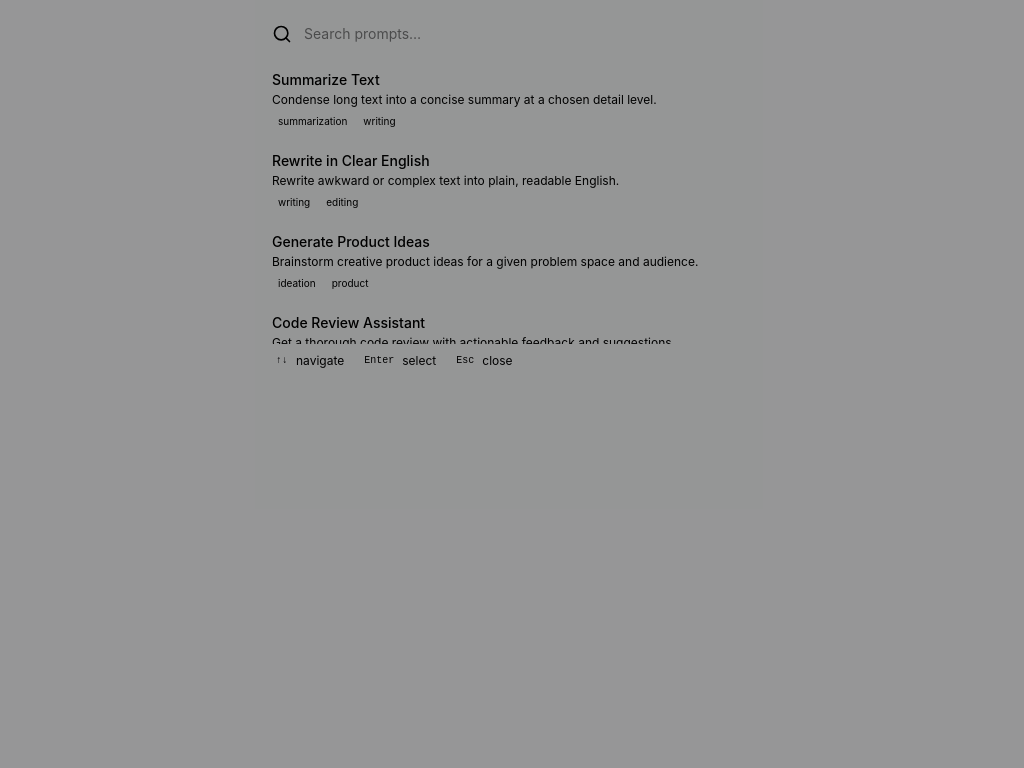
CommandPalette › shows "No prompts found" when no results match
The width and height of the screenshot is (1024, 768).
In the field labelled "Search prompts": (528, 34) [304,24,752,44], type "zzzznonexistent"
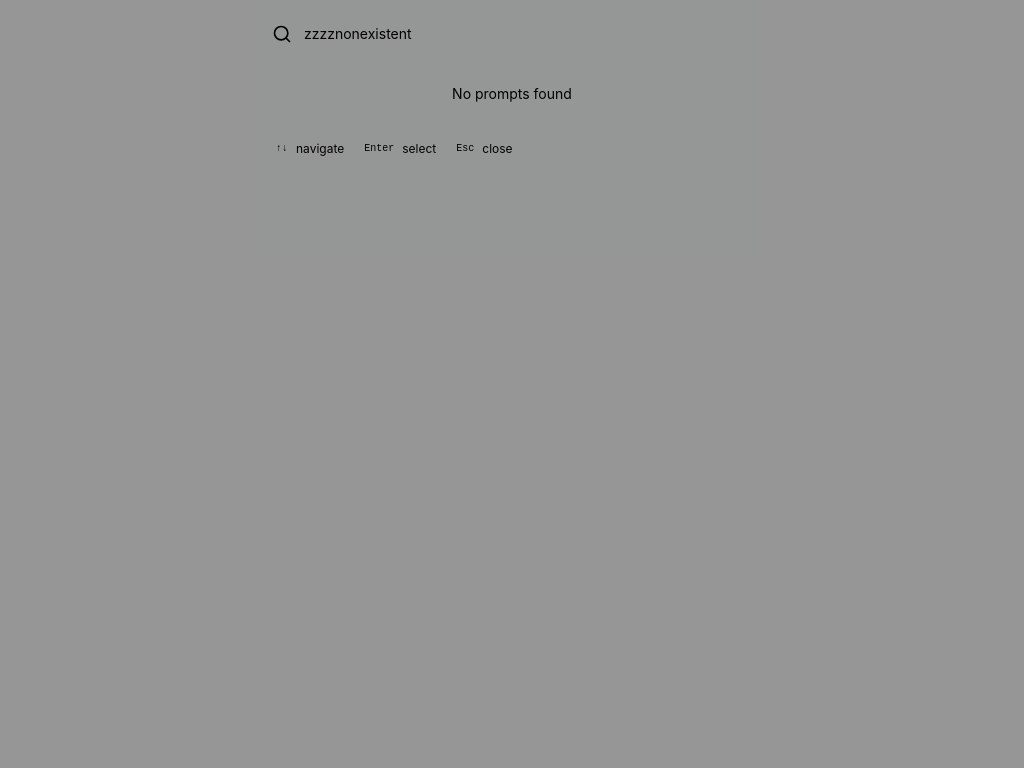
Expected: the list item "No prompts found" is shown, [452,85,572,102]
